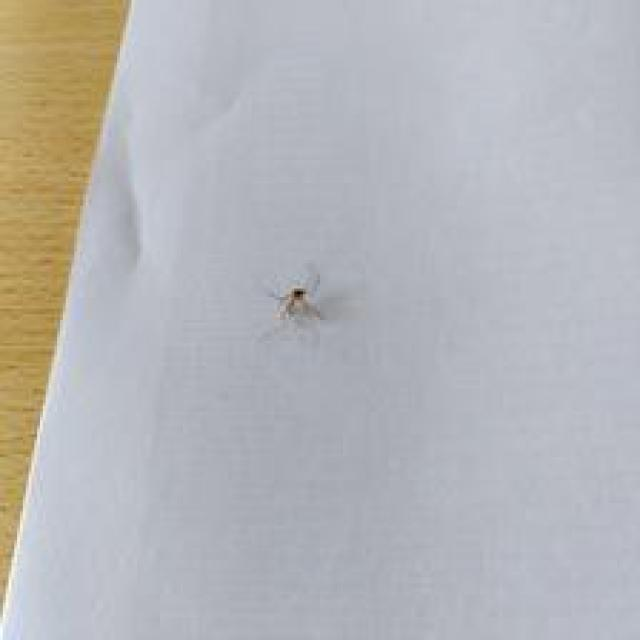Culex: (268, 273, 323, 324)
